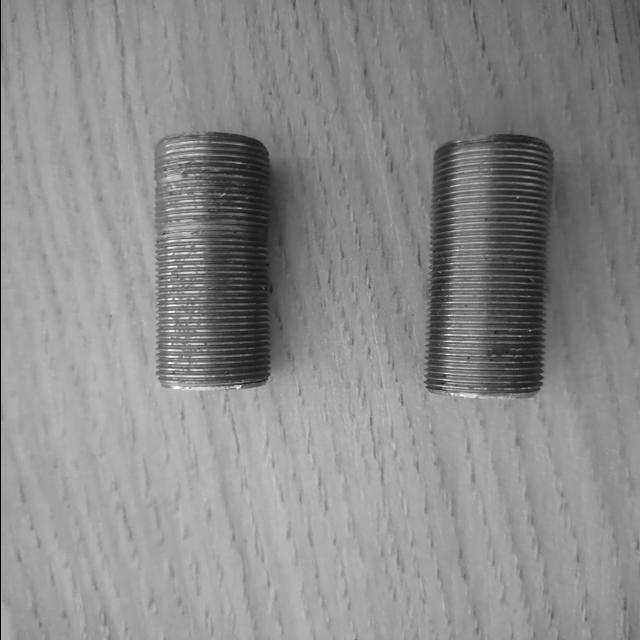Broken: (152, 130, 270, 392)
Normal: (422, 133, 556, 401)
